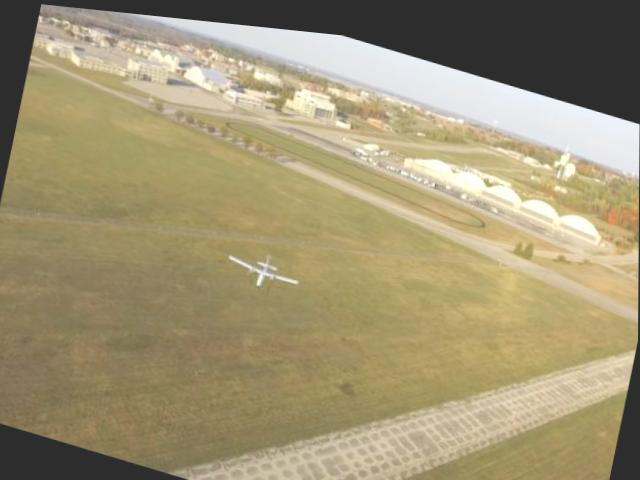uav: (223, 237, 304, 292)
